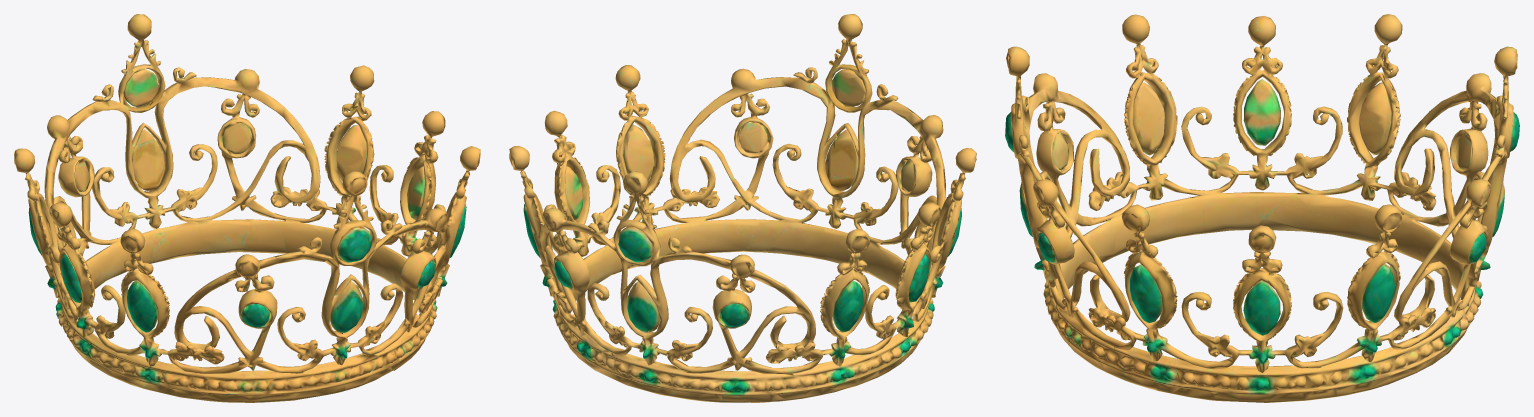
3 renders of one model, left to right at view 1: azimuth 30°, elevation 25°; view 2: azimuth 150°, elevation 25°; view 3: azimuth 270°, elevation 25°, orthographic. The views are drawn at different scales.
Size of the model in its own units: 1.9 by 1.09 by 1.9.
Materials: 1 (1 with a texture image).
